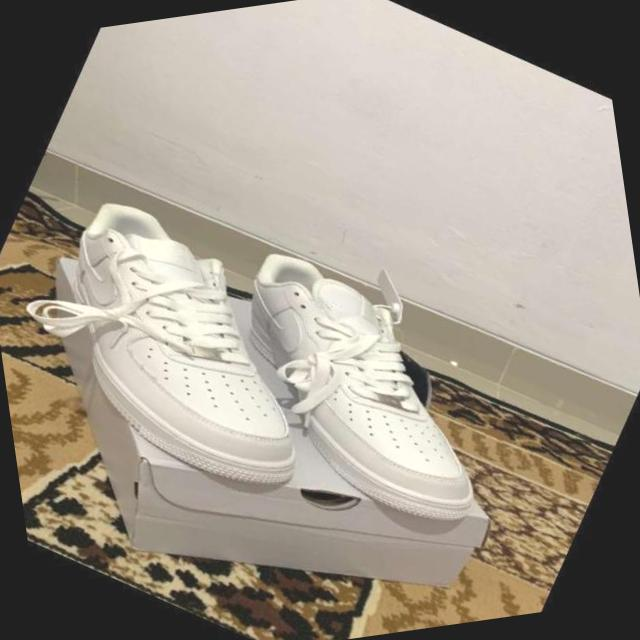nike_original_airforce: (0, 126, 407, 551), (162, 203, 560, 575)
